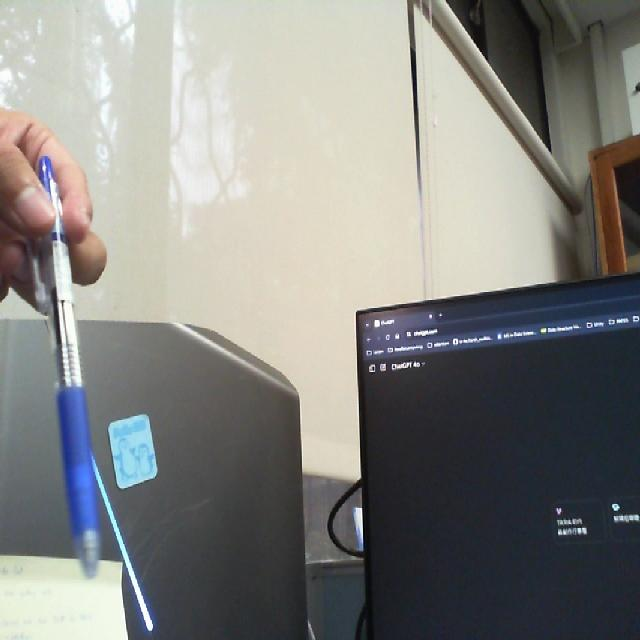Pen: (20, 142, 116, 594)
